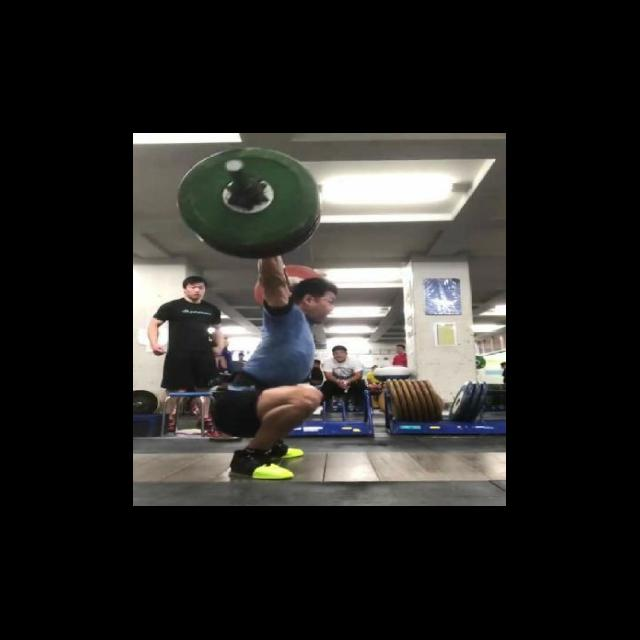barbell: (176, 143, 322, 258)
